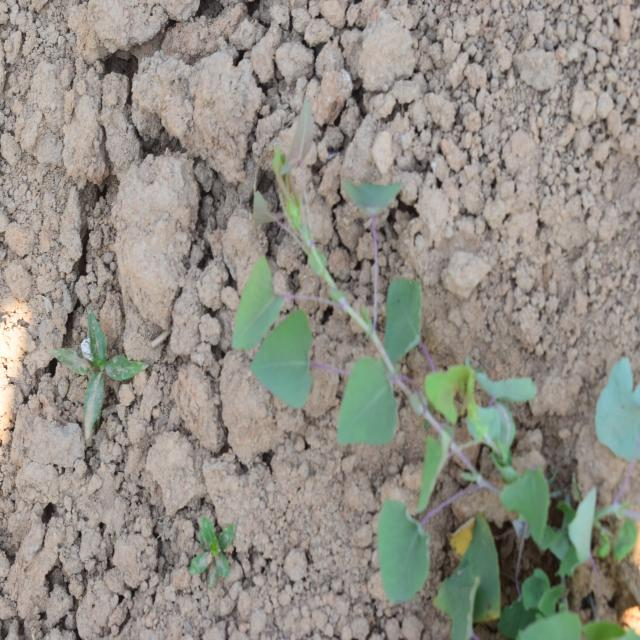Asiatic_Smartweed: (228, 128, 429, 422), (364, 477, 467, 605)
